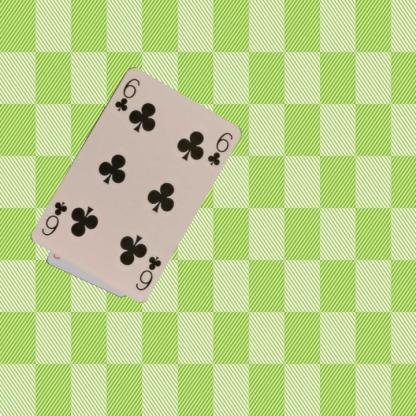6c: (132, 253, 163, 292), (112, 75, 141, 113)
